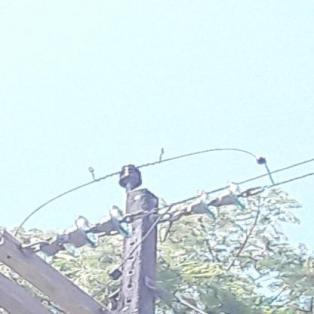Poste: (87, 183, 170, 314)
